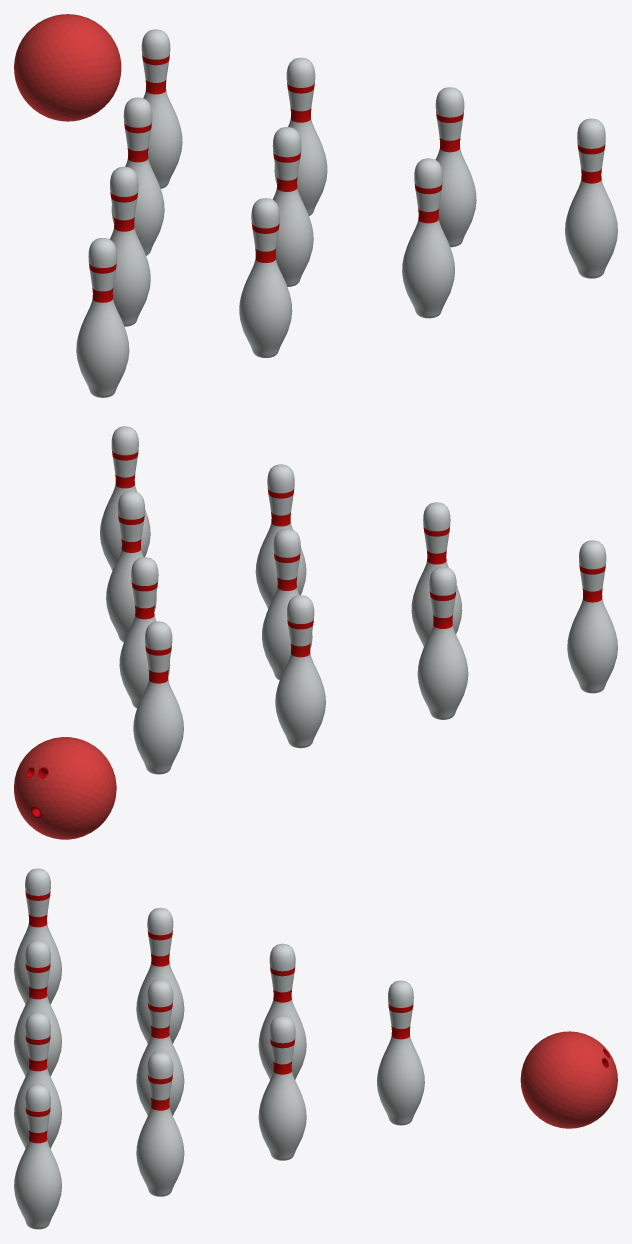
The model's file is BOWLING ALLEY.fbx.
3 views of the same model, one above another, from view 1: azimuth 30°, elevation 25°; view 2: azimuth 150°, elevation 25°; view 3: azimuth 270°, elevation 25° (orthographic). The views are drawn at different scales.
Parts seen in each view (by area): view 1: BOWLING BOWL, pin.003, pin.005, pin.002, pin.004, pin.008, pin.006, pin.007, pin, pin.009, pin.010; view 2: BOWLING BOWL, pin.003, pin.006, pin, pin.009, pin.007, pin.008, pin.010, pin.004, pin.005, pin.002; view 3: BOWLING BOWL, pin.010, pin.008, pin.002, pin, pin.009, pin.007, pin.006, pin.005, pin.004, pin.003.
Boxes of the visible parts, x1,y1,x2,y2 form: BOWLING BOWL: [14, 14, 121, 121]; pin.003: [76, 238, 129, 397]; pin.005: [402, 158, 454, 318]; pin.002: [565, 118, 617, 278]; pin.004: [239, 198, 292, 358]; pin.008: [435, 87, 476, 247]; pin.006: [110, 166, 150, 326]; pin.007: [272, 127, 313, 286]; pin: [141, 29, 182, 188]; pin.009: [111, 97, 164, 255]; pin.010: [274, 57, 327, 215]; BOWLING BOWL: [14, 737, 116, 839]; pin.003: [567, 540, 617, 693]; pin.006: [417, 567, 468, 719]; pin: [133, 621, 183, 774]; pin.009: [275, 595, 325, 748]; pin.007: [262, 529, 312, 680]; pin.008: [106, 491, 156, 642]; pin.010: [119, 557, 170, 708]; pin.004: [411, 502, 462, 646]; pin.005: [255, 464, 306, 608]; pin.002: [100, 426, 150, 570]; BOWLING BOWL: [520, 1031, 617, 1128]; pin.010: [258, 1015, 306, 1160]; pin.008: [136, 1051, 184, 1196]; pin.002: [14, 1084, 61, 1229]; pin: [377, 980, 424, 1125]; pin.009: [258, 943, 306, 1079]; pin.007: [136, 979, 184, 1115]; pin.006: [136, 907, 184, 1043]; pin.005: [14, 1012, 61, 1148]; pin.004: [14, 940, 61, 1076]; pin.003: [14, 868, 61, 1004].
Size of what is drawn, in the model's own units: 1372 by 380 by 1481.
